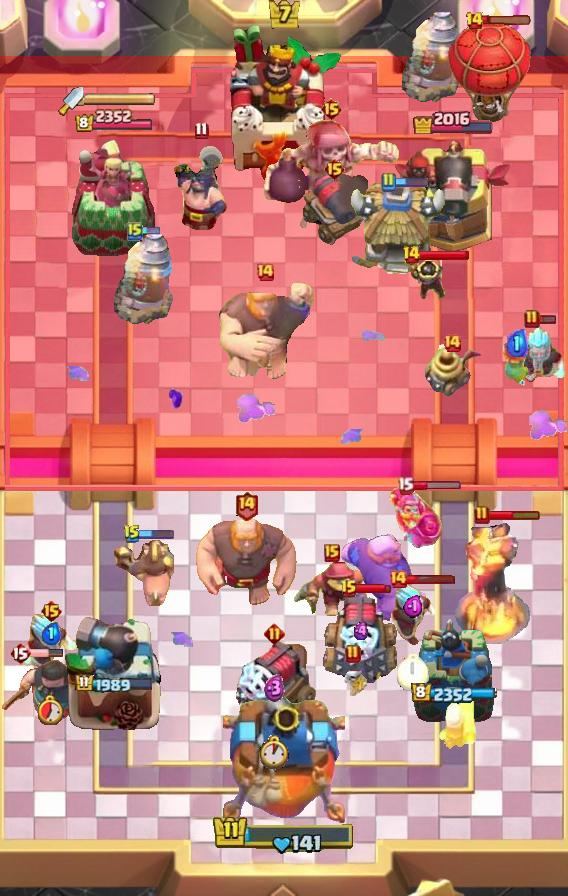balloon: (216, 280, 314, 382), (192, 515, 300, 607), (338, 532, 432, 624)
bar: (70, 138, 158, 256)
bomber-evolution: (395, 251, 447, 301)
cannon-cart: (446, 17, 532, 125)
clock: (212, 814, 356, 856)
electro-dragon: (454, 520, 532, 648)
electro-giant: (260, 118, 402, 232)
electro-spirit: (263, 673, 284, 702), (508, 329, 529, 357), (403, 594, 424, 617), (41, 622, 61, 645), (352, 621, 372, 641)
elixir: (397, 653, 429, 691), (257, 735, 290, 770), (38, 695, 64, 726)
emote: (488, 509, 541, 521), (418, 249, 470, 261), (481, 14, 533, 25), (411, 481, 462, 492), (406, 574, 456, 585), (393, 176, 429, 188), (139, 528, 175, 540), (356, 583, 392, 595), (28, 648, 64, 658), (539, 315, 558, 326), (141, 226, 161, 236)
fireball: (293, 561, 371, 621)
firecracker-evolution: (389, 487, 443, 549)
freeze: (114, 538, 174, 608)
goblin-drill: (421, 343, 483, 399)
golem: (231, 639, 317, 729), (321, 593, 401, 683)
heal-spirit: (339, 664, 367, 696)
hog-rider: (498, 337, 536, 389)
king-tower: (224, 23, 344, 181), (223, 698, 345, 826)
king-tower-bar: (84, 93, 156, 107)
magic-archer: (402, 11, 462, 103), (114, 233, 174, 325)
monk: (172, 145, 230, 231)
mortar: (382, 582, 444, 648), (21, 611, 81, 677), (510, 322, 568, 386)
prince: (346, 183, 448, 279)
queen-tower: (409, 616, 497, 731)
royal-giant-evolution: (300, 171, 368, 245)
royal-hog: (0, 657, 90, 727)
selected: (413, 108, 496, 134), (74, 110, 154, 135), (412, 683, 497, 705), (74, 673, 154, 695)
text: (234, 490, 259, 521), (320, 97, 343, 121), (322, 157, 345, 181), (40, 599, 63, 623), (9, 641, 31, 665), (263, 623, 284, 644), (464, 11, 484, 31), (402, 245, 422, 265), (255, 262, 275, 282), (442, 333, 462, 353), (388, 569, 408, 589), (123, 524, 141, 544), (340, 579, 358, 599), (398, 477, 415, 496), (380, 172, 396, 192), (127, 221, 143, 241), (524, 309, 540, 329), (474, 505, 490, 525), (345, 644, 361, 664), (324, 544, 340, 562), (195, 120, 209, 139)
tombstone: (436, 693, 478, 751)
tower-bar: (392, 138, 514, 256), (63, 615, 165, 731)
